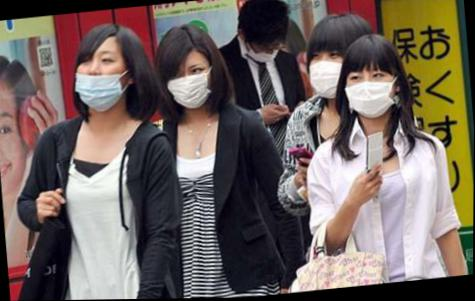NONE: (1, 101, 29, 200)
OK: (344, 64, 399, 121), (305, 43, 352, 102), (164, 58, 215, 111), (246, 37, 283, 66)
WRONG: (73, 45, 130, 116)
